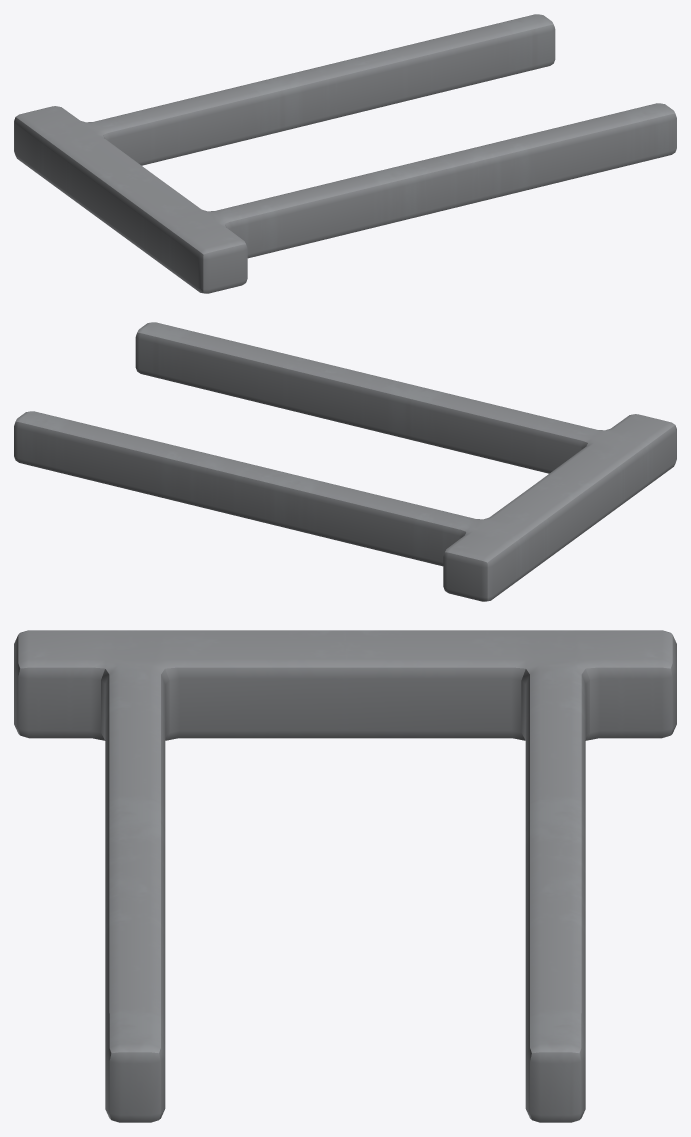
Rendered from LevierPrincipal.fbx.
3 views of the same model, one above another, from view 1: azimuth 30°, elevation 25°; view 2: azimuth 150°, elevation 25°; view 3: azimuth 270°, elevation 25° (orthographic). The views are drawn at different scales.
Parts seen in each view (by area): view 1: LevierPrincipal, LevierPrincipal1; view 2: LevierPrincipal1, LevierPrincipal; view 3: LevierPrincipal, LevierPrincipal1.
Part boxes in pixels (x1,y1,x2,y2): LevierPrincipal: (106,103,676,293); LevierPrincipal1: (14,14,555,224); LevierPrincipal1: (14,411,584,601); LevierPrincipal: (135,322,676,533); LevierPrincipal: (14,630,345,1122); LevierPrincipal1: (345,630,676,1122).
Bounding box in the file's own units: 0.2348 × 0.0201 × 0.1545.
1 material, 1 textured.
